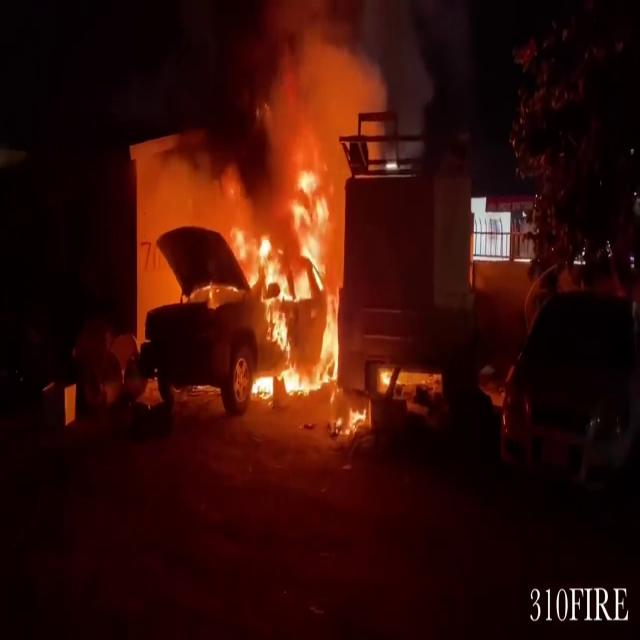Fire: (237, 162, 349, 402)
Smoke: (240, 0, 396, 185)
